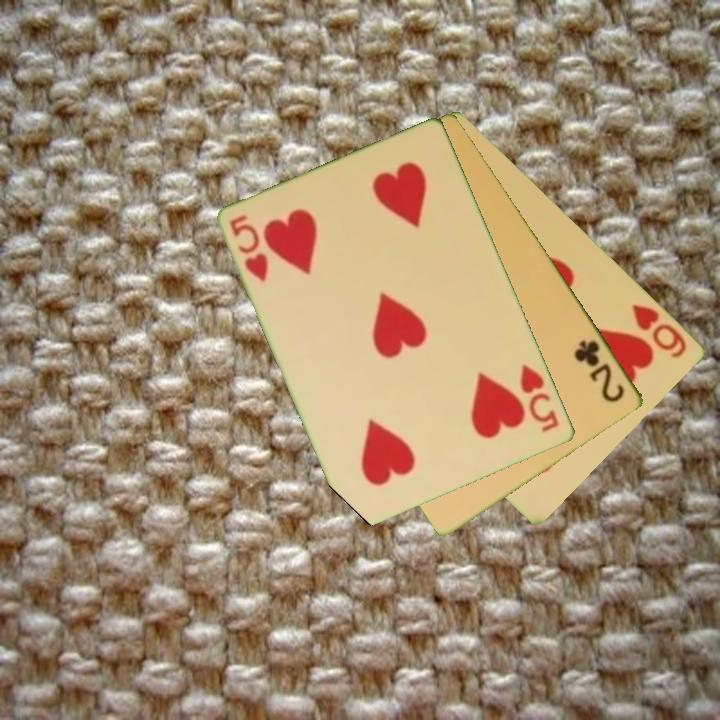2c: (571, 336, 628, 406)
5h: (517, 361, 563, 436), (226, 211, 272, 285)
6h: (629, 300, 691, 361)
